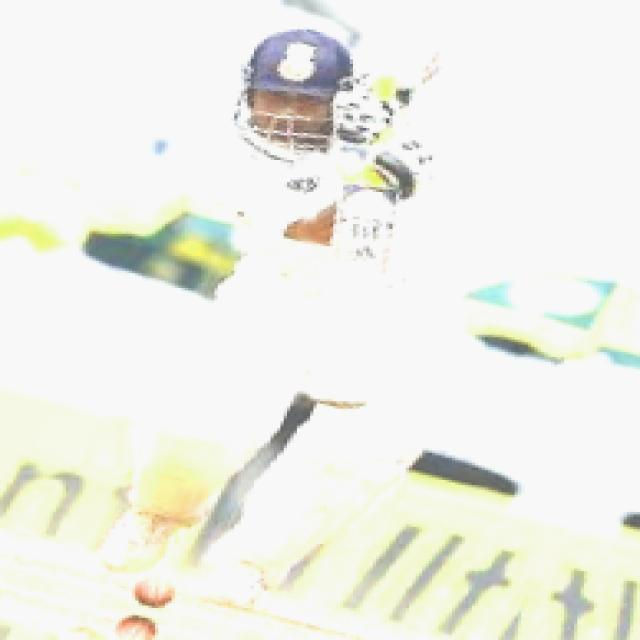bat: (298, 186, 410, 414)
toe: (300, 388, 369, 413)
